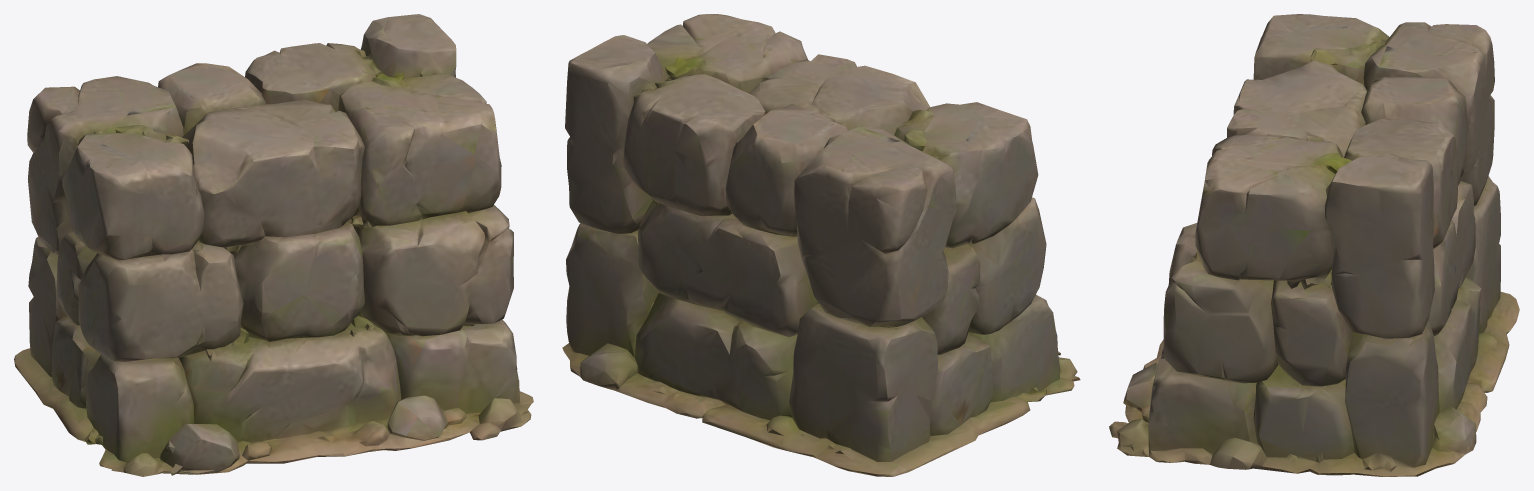
Rendered from muro_ruina_6000.glb.
3 views of the same model, side by side, from view 1: azimuth 30°, elevation 25°; view 2: azimuth 150°, elevation 25°; view 3: azimuth 270°, elevation 25° (orthographic).
Parts seen in each view (by area): view 1: muro_ruina_malla; view 2: muro_ruina_malla; view 3: muro_ruina_malla.
Part boxes in pixels (x1,y1,x2,y2): muro_ruina_malla: (14, 14, 533, 476); muro_ruina_malla: (562, 14, 1080, 476); muro_ruina_malla: (1109, 14, 1519, 476).
Size of the model in its own units: 0.3942 by 0.2644 by 0.3341.
1 material, 1 textured.
